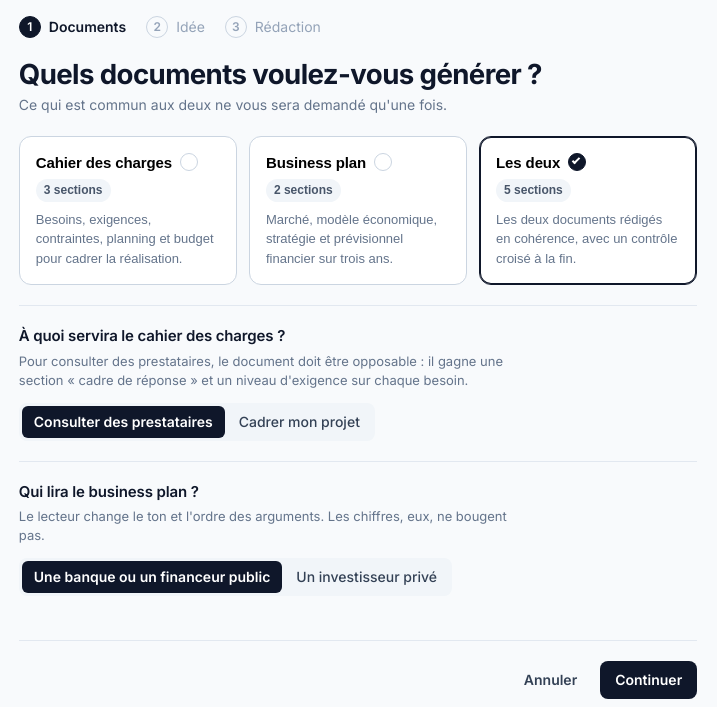
Test: la création d'un projet › montre ce qui reste à écrire, et le dit quand la borne approche
Click the button "Continuer". click: (649, 680)
box: 600,661 -> 697,699
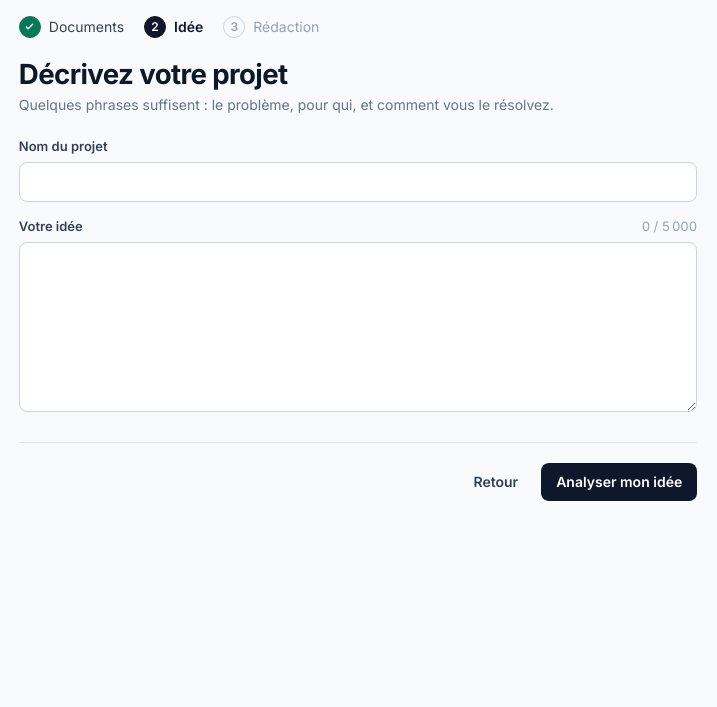
Type "Des coachs." into the text box labelled "Votre idée". click: (358, 327)
box: 19,242 -> 697,412
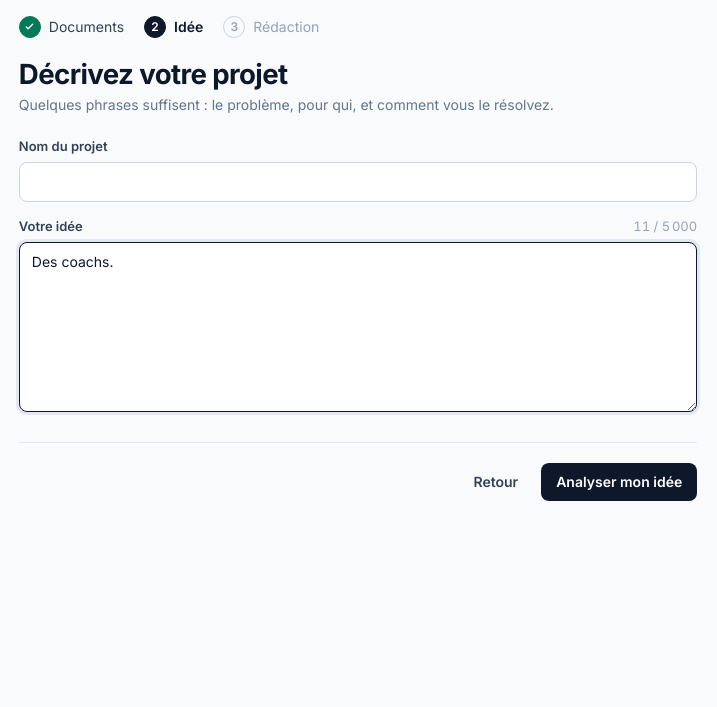
expect the text "11 / 5 000" is shown: met, box 633,216 -> 697,236
